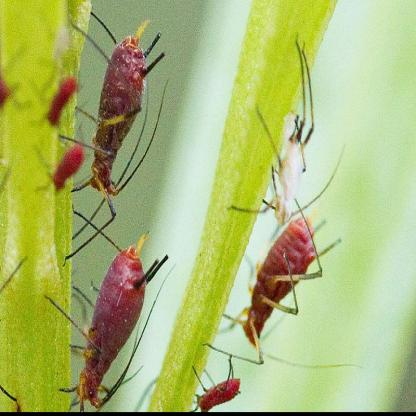aphid: (68, 218, 167, 412), (80, 4, 162, 238), (236, 201, 328, 377), (260, 37, 327, 227), (191, 352, 241, 410), (49, 134, 89, 202), (47, 65, 80, 125)
